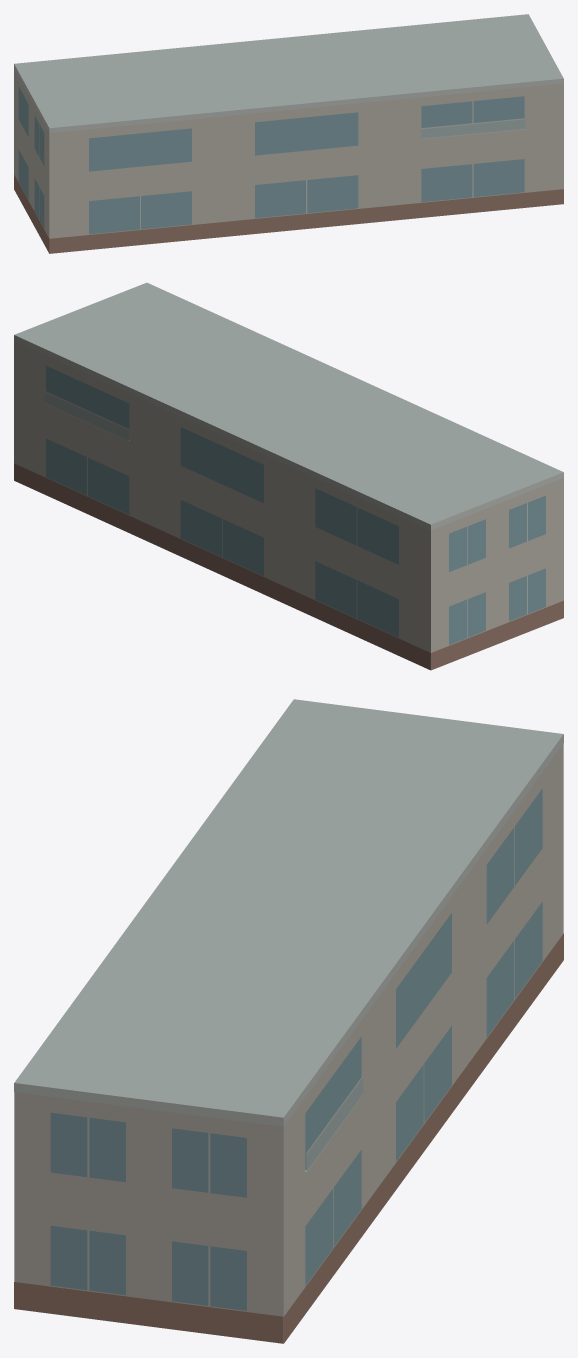
The model's file is survey-upis-33008328.glb.
The picture shows the model from 3 angles, top to bottom: view 1: azimuth 30°, elevation 25°; view 2: azimuth 150°, elevation 25°; view 3: azimuth 270°, elevation 25°; orthographic projection. The views are drawn at different scales.
Visible parts, largest first — view 1: survey-upis-33008328.tmp; view 2: survey-upis-33008328.tmp; view 3: survey-upis-33008328.tmp.
Part boxes in pixels (x1,y1,x2,y2): survey-upis-33008328.tmp: [14, 14, 563, 253]; survey-upis-33008328.tmp: [14, 282, 563, 670]; survey-upis-33008328.tmp: [14, 699, 563, 1343].
Size of the model in its own units: 24.23 by 6.1 by 13.45.
